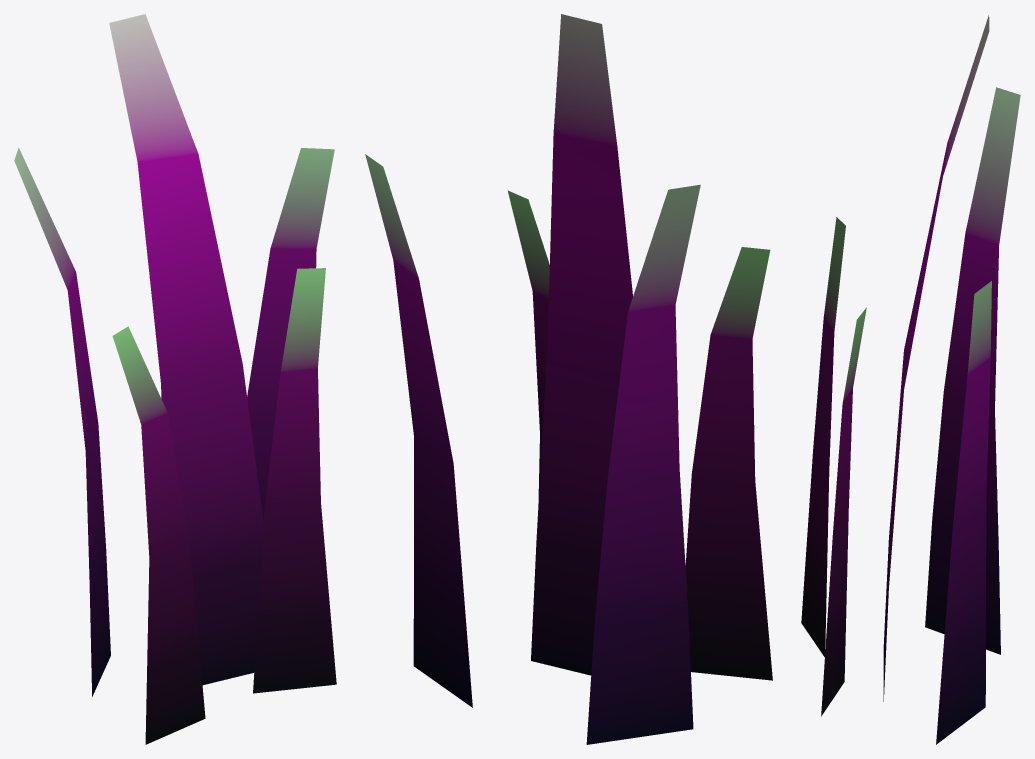
File: mesh_Grass.fbx
3 renders of one model, left to right at view 1: azimuth 30°, elevation 25°; view 2: azimuth 150°, elevation 25°; view 3: azimuth 270°, elevation 25°, orthographic. The views are drawn at different scales.
Parts seen in each view (by area): view 1: mesh_Grass; view 2: mesh_Grass; view 3: mesh_Grass.
Boxes of the visible parts, x1,y1,x2,y2 form: mesh_Grass: (14,14,336,744); mesh_Grass: (365,14,772,744); mesh_Grass: (801,15,1020,744).
Bounding box in the file's own units: 1.06 × 2.1 × 0.655.
